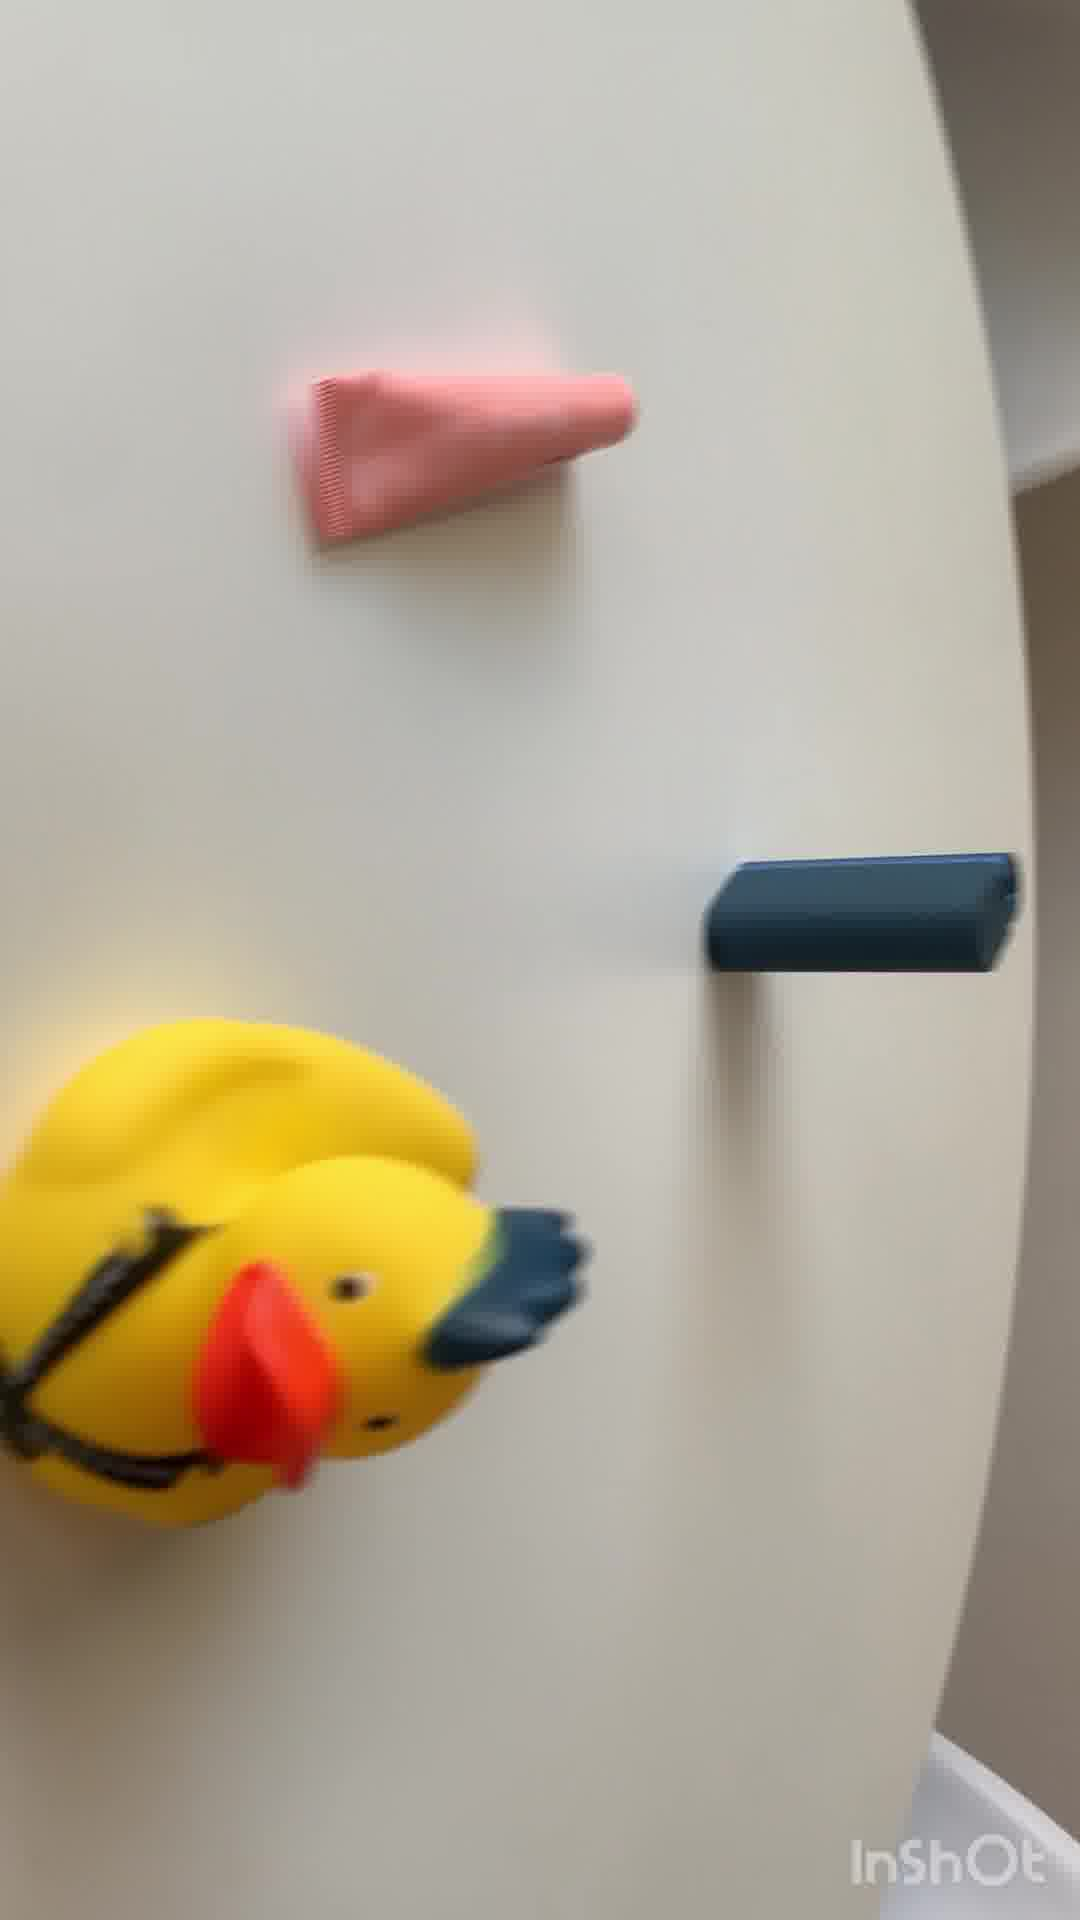duck: (1, 998, 600, 1542)
glo: (703, 844, 1026, 980)
lip balm: (285, 357, 654, 549)
